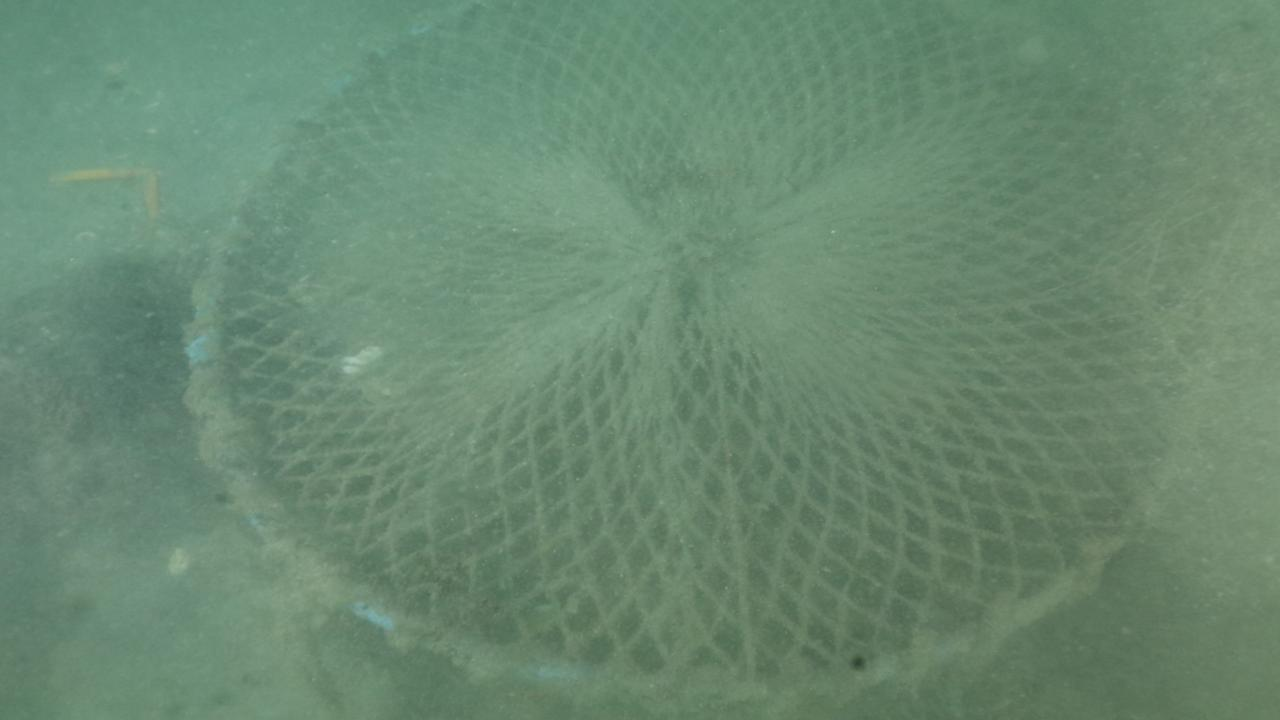circular fish trap: (183, 5, 1237, 720)
